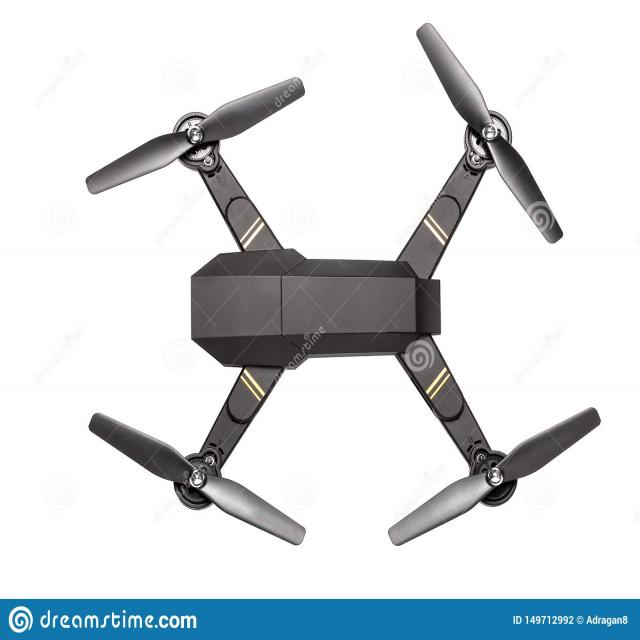drones: (64, 17, 608, 558)
